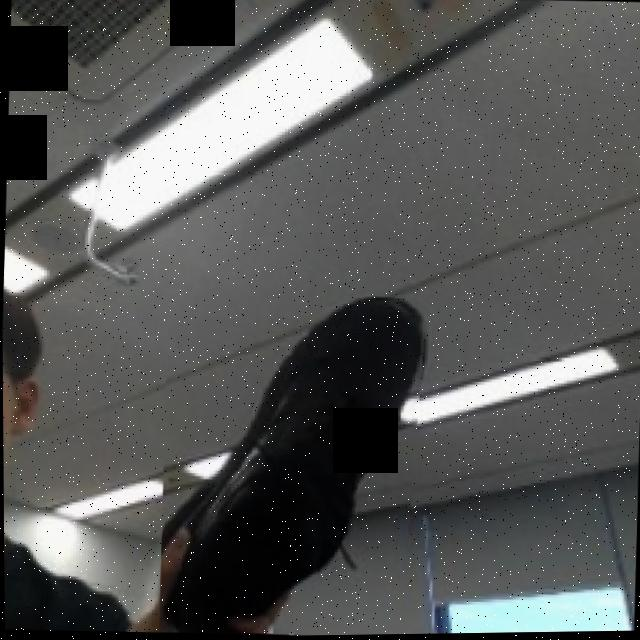shoe: (156, 289, 430, 638)
